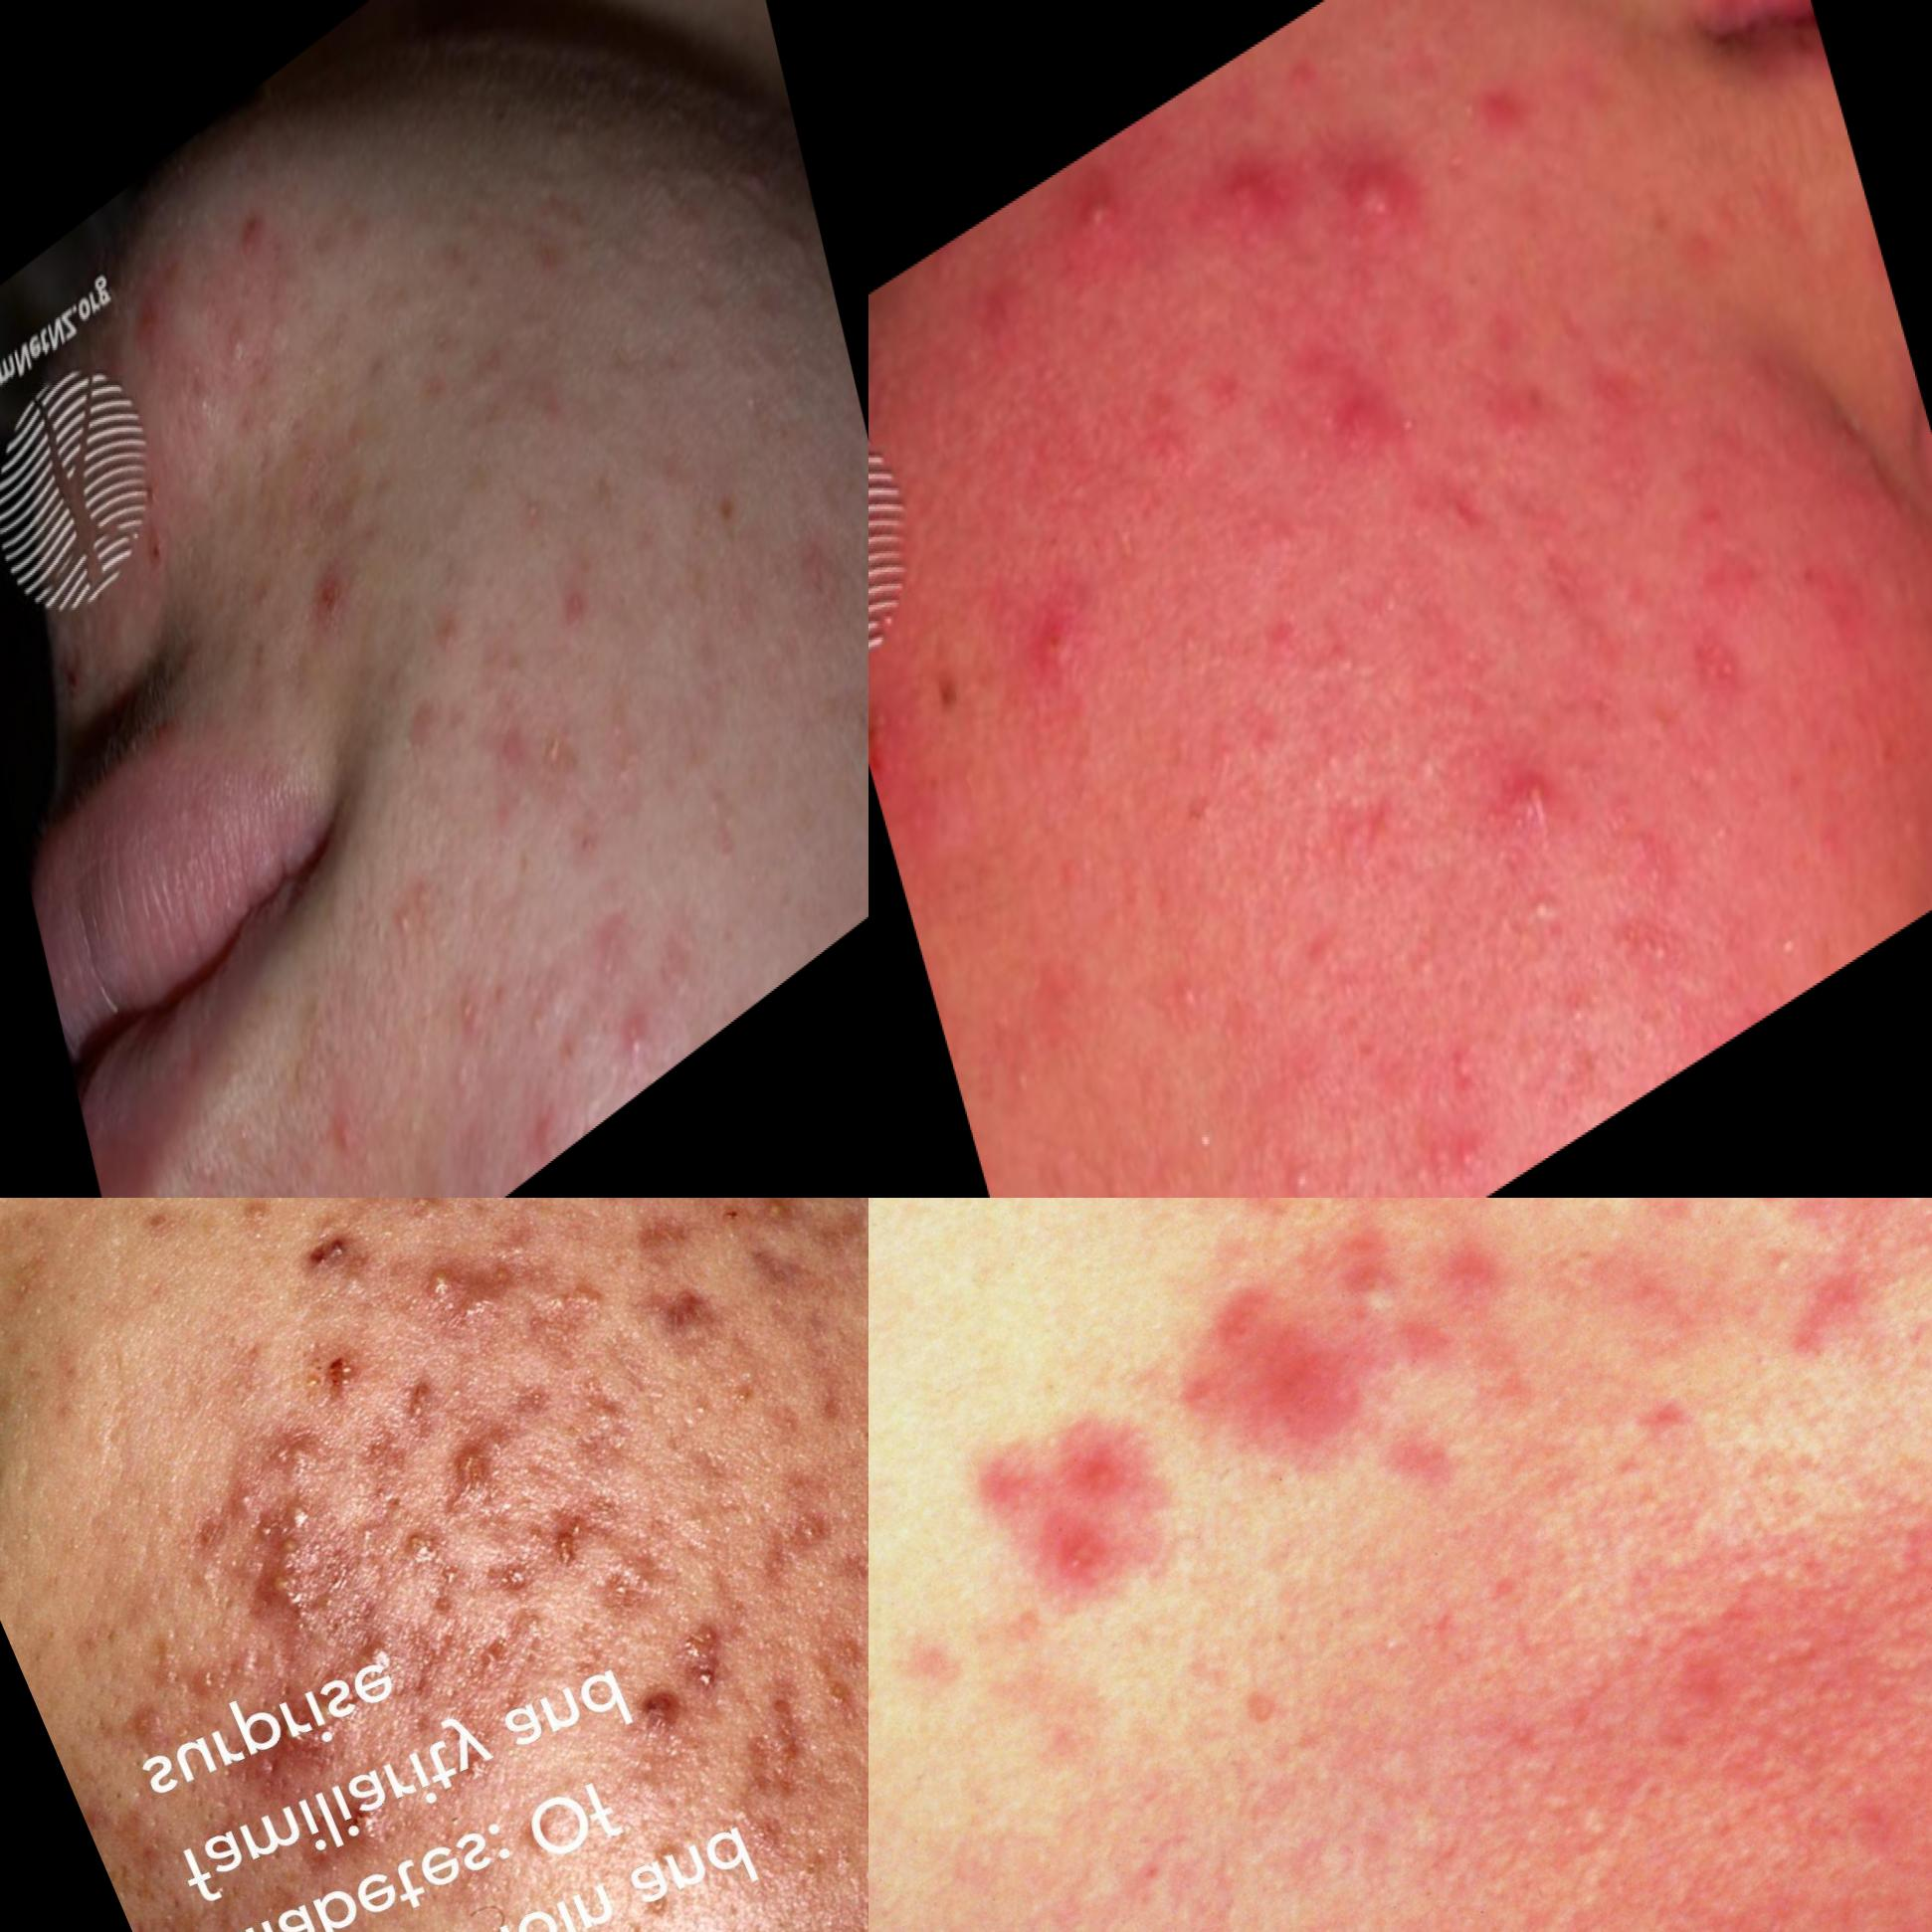acne_scars: (724, 1683, 869, 1819), (191, 265, 281, 414)
keloid: (533, 1499, 600, 1589), (426, 1440, 494, 1520)
papular: (961, 1355, 1238, 1628), (1329, 108, 1444, 258), (1200, 122, 1300, 276), (1467, 30, 1569, 175), (1012, 548, 1104, 704), (1332, 375, 1408, 497), (444, 249, 511, 359), (545, 561, 596, 656)
purulent: (1299, 1219, 1453, 1353), (398, 1244, 478, 1323), (740, 1200, 816, 1244)
sebo-crystan-conglo: (196, 1456, 391, 1649), (653, 1601, 752, 1714), (653, 1274, 736, 1353)
whitehead: (1054, 142, 1154, 264), (165, 347, 239, 485), (1750, 863, 1840, 977), (416, 586, 485, 701), (1178, 1086, 1249, 1192), (978, 1030, 1053, 1131), (602, 959, 667, 1069), (377, 867, 437, 984), (1490, 860, 1564, 954), (1509, 736, 1575, 839), (1267, 1116, 1343, 1200), (1433, 996, 1495, 1093), (1155, 952, 1215, 1044)
